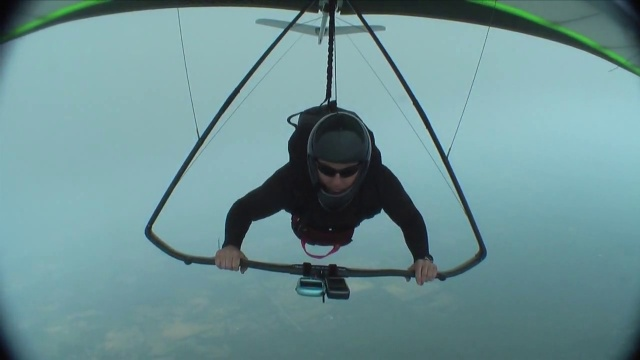person: (209, 104, 439, 281)
